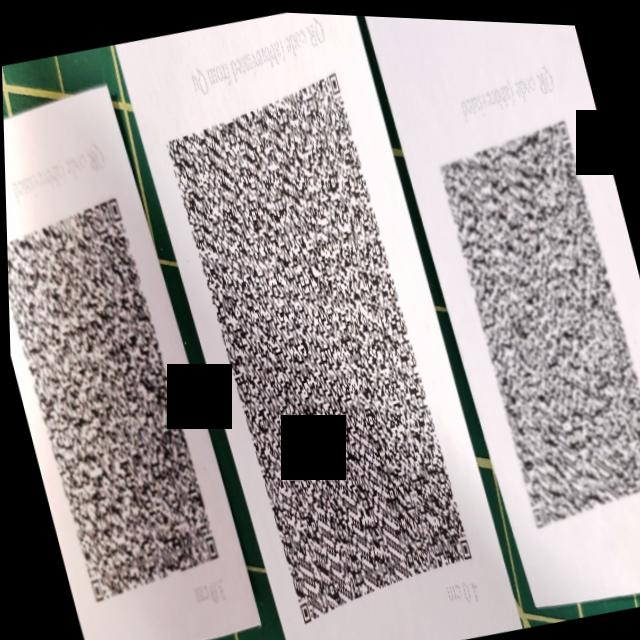QR_CODE: (135, 21, 494, 640), (3, 128, 233, 637), (420, 87, 640, 592)
